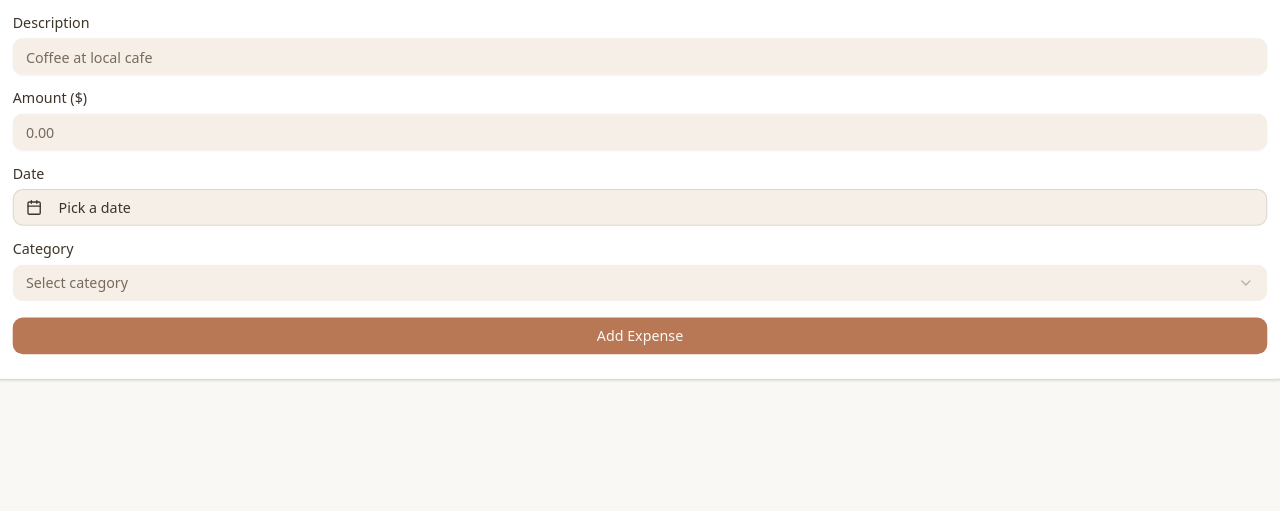
Test: ExpenseForm › shows validation errors on empty submit
Click the button "Add Expense" at coordinates (640, 336), box top-left (13, 318), bottom-right (1267, 354)
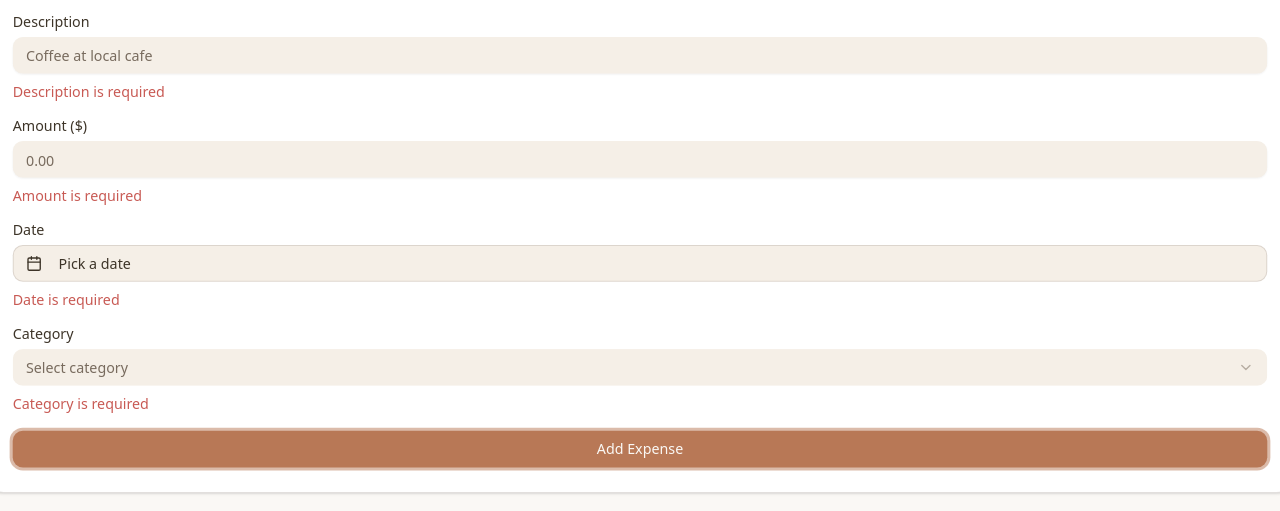
Now the text "Description is required" is shown, box top-left (13, 82), bottom-right (165, 101)
Now the text "Amount is required" is shown, box top-left (13, 186), bottom-right (142, 205)
